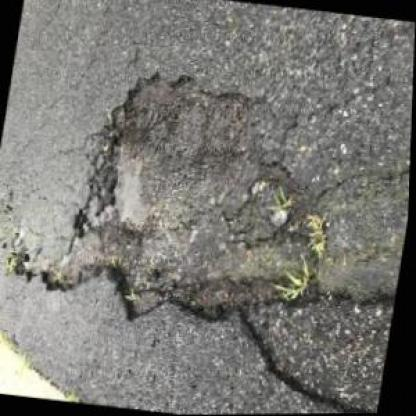pothole: (7, 53, 354, 349)
